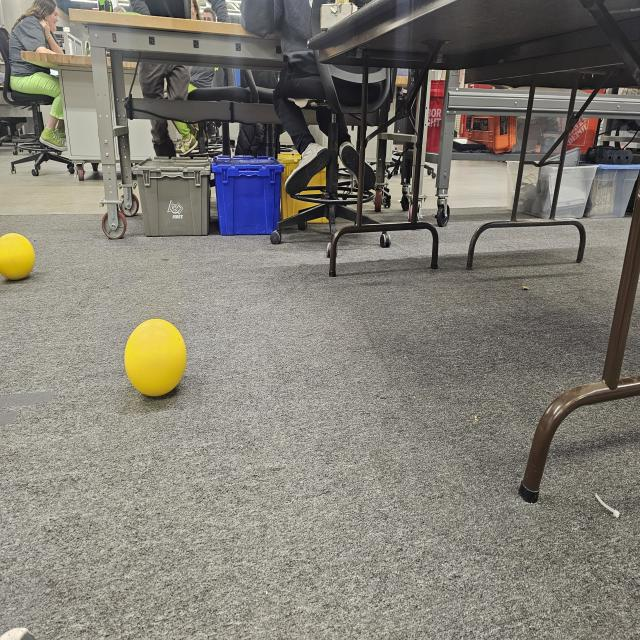Fuel: (125, 318, 186, 397), (0, 234, 35, 280)
